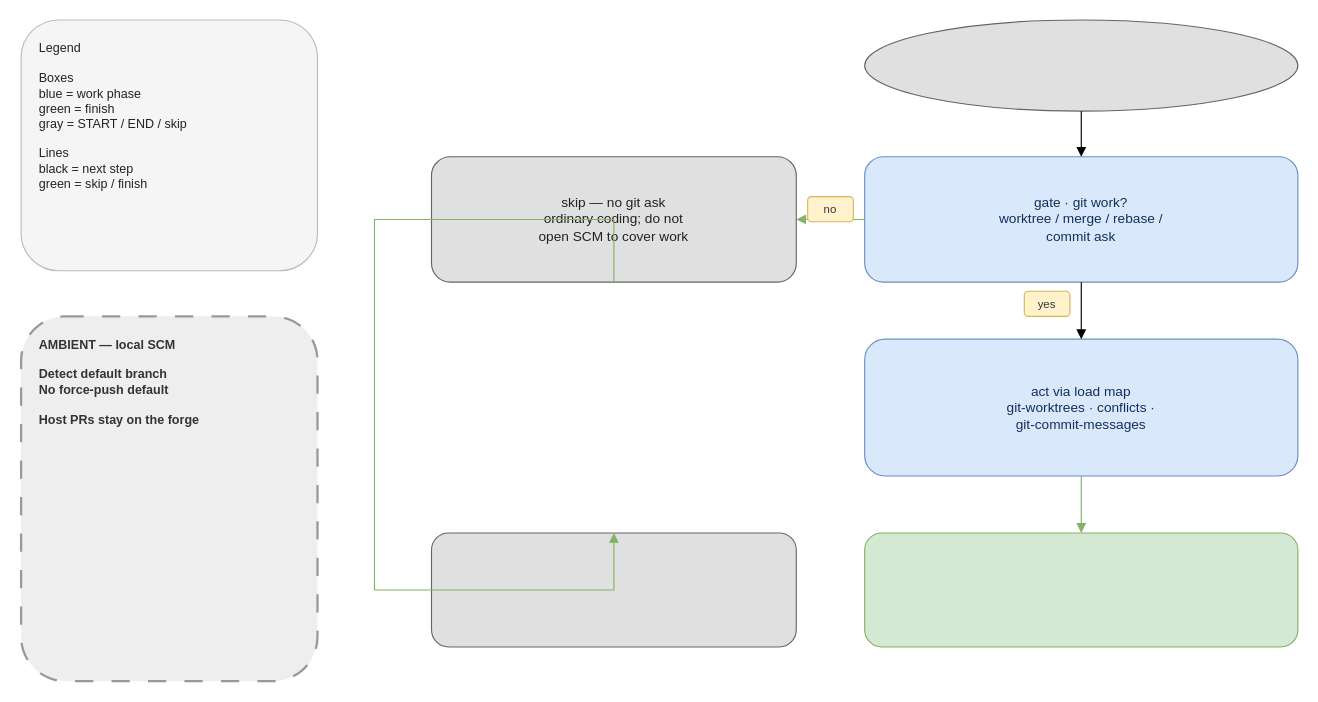
This 1318x702 diagram has some shape labels left out. Each missing label, with the box of its shape:
END — evidence (path / status / subject): (864, 532, 1298, 647)
END — stay out: (430, 532, 796, 647)
START — user ask: (864, 19, 1298, 111)
